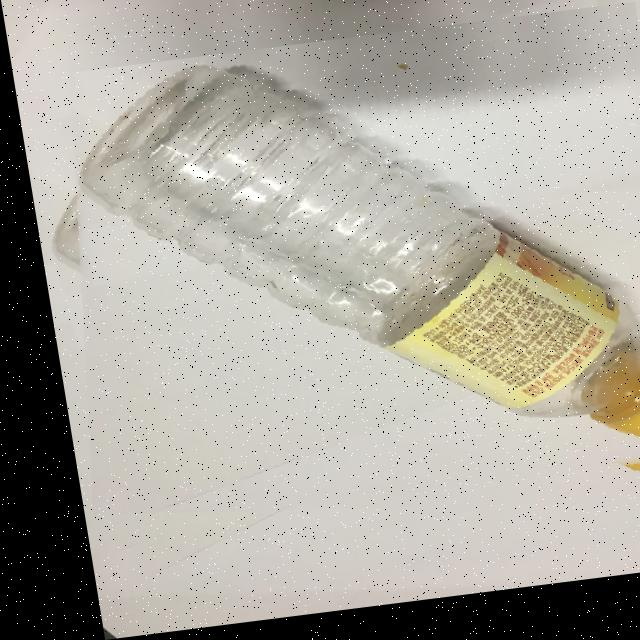plasticbottle: (18, 18, 640, 578)
plasticbottlecap: (559, 390, 640, 513)
